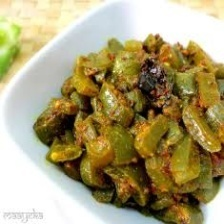sabzi: (24, 28, 224, 224)
